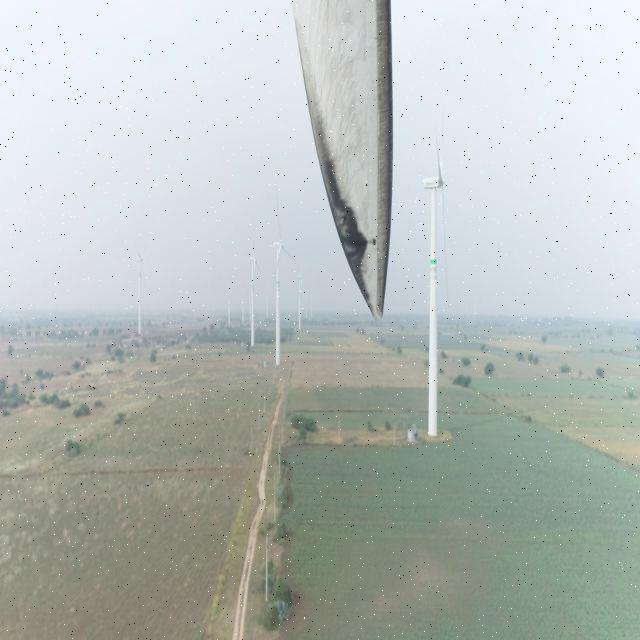Dirt: (289, 0, 394, 315)
Oil LEAKAGE: (323, 148, 380, 315)
Pin Hole: (366, 235, 381, 250)
